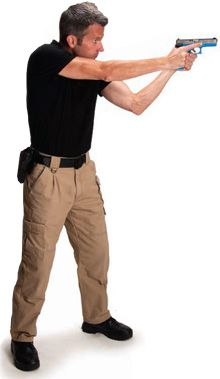gun: (167, 37, 220, 72)
